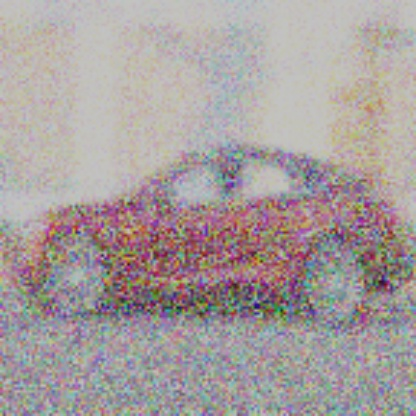Vehicle: (12, 139, 407, 322)
